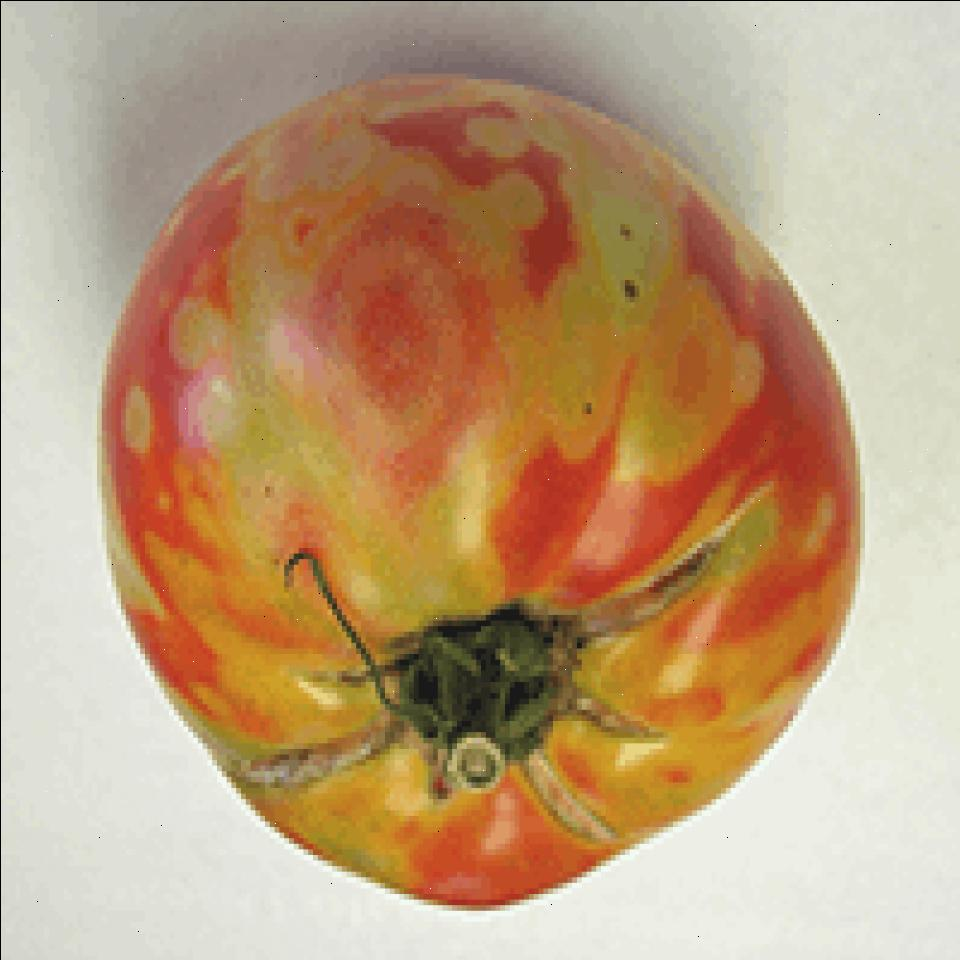Spotted wilt Virus: (101, 73, 854, 910)
